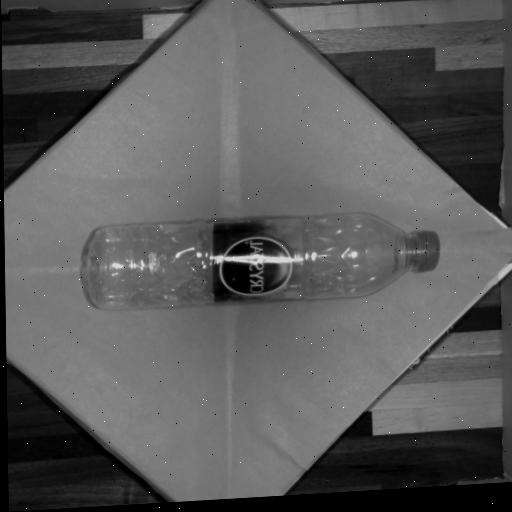bottle: (87, 214, 437, 308)
